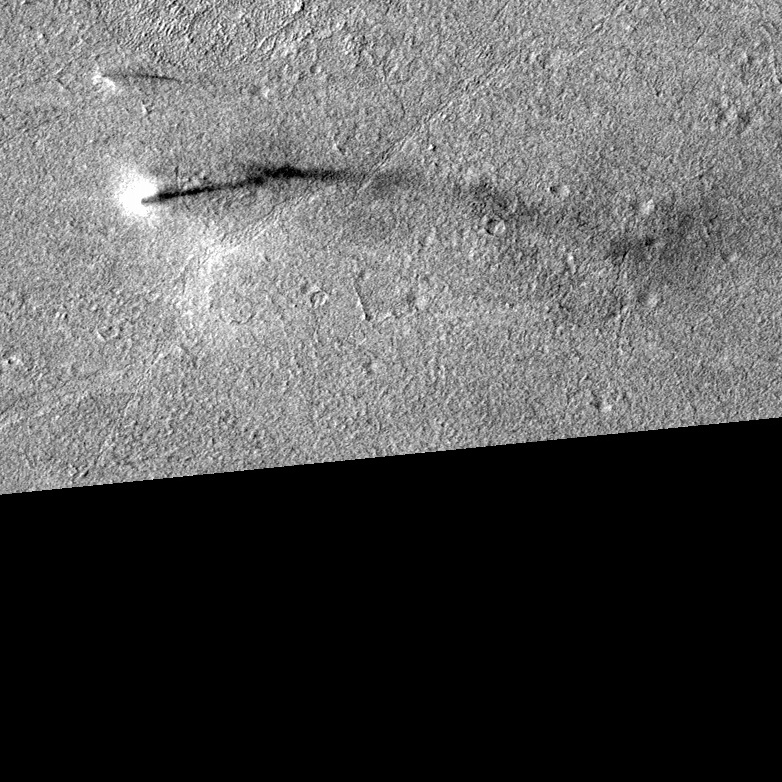dust_devil: (116, 158, 362, 223), (91, 69, 181, 93)
